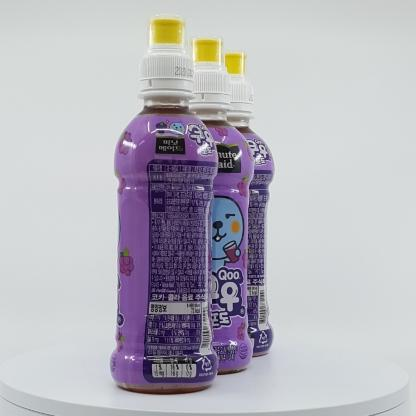------300ML: (110, 14, 218, 395)
